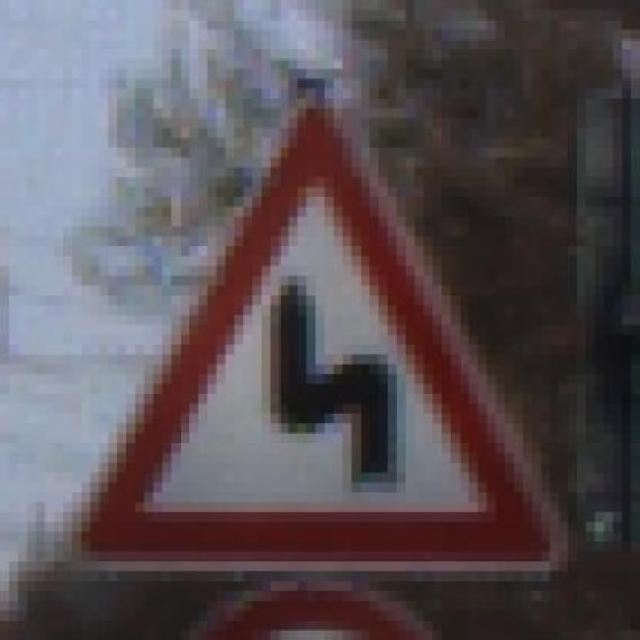Left Zig Zag Traffic: (63, 49, 568, 582)
